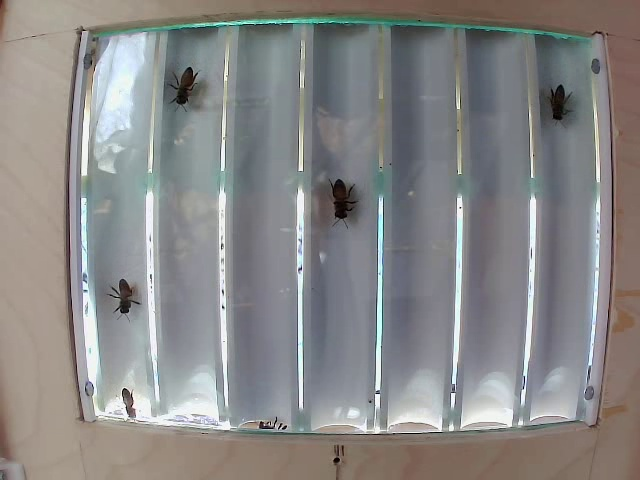bee: (316, 166, 355, 242), (156, 63, 198, 120), (108, 267, 146, 318), (544, 73, 573, 120)
